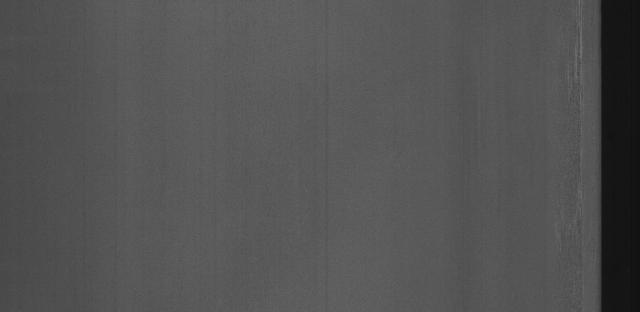silk_spot: (539, 27, 593, 113)
